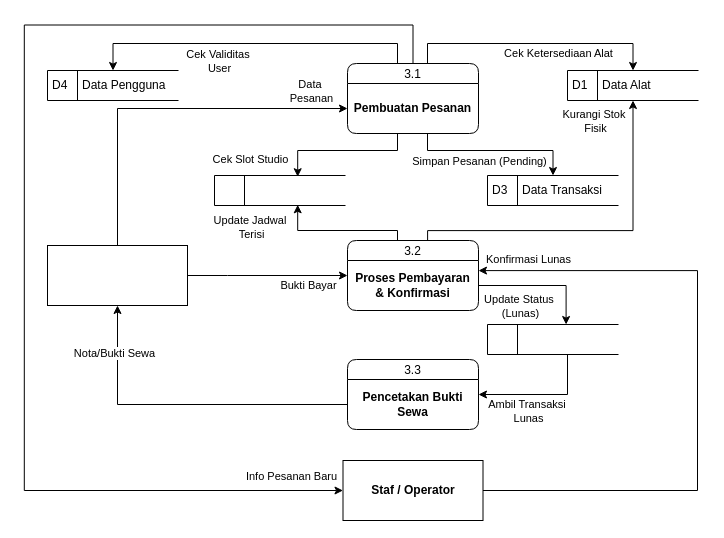
The diagram is 724 pixels wide and 538 high, and some of its shapes have lost their labels. The box of each missing label's shape, as (x1, y1, x2, y2) in pixels:
D2 Data Studio: (214, 174, 346, 206)
D3 *Data Transaksi: (486, 324, 618, 354)
Penyewa / Pelanggan: (46, 244, 188, 306)
